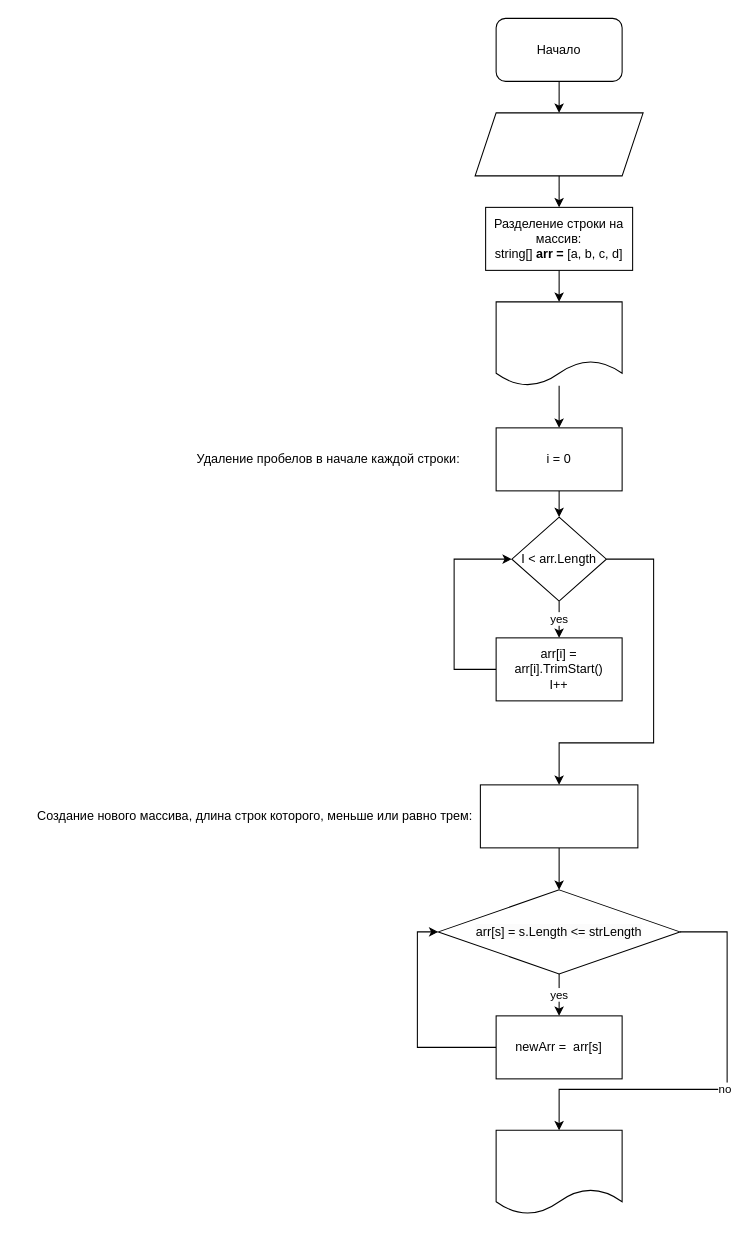
This 754x1233 diagram has some shape labels left out. The box of each missing label's shape, as (x1, y1, x2, y2) in pixels:
arr: (495, 301, 622, 386)
newArr: (495, 1129, 622, 1214)
strLength = 3: (479, 784, 638, 848)
Ввод строки данных string str = a, b, c, d: (474, 112, 643, 176)
